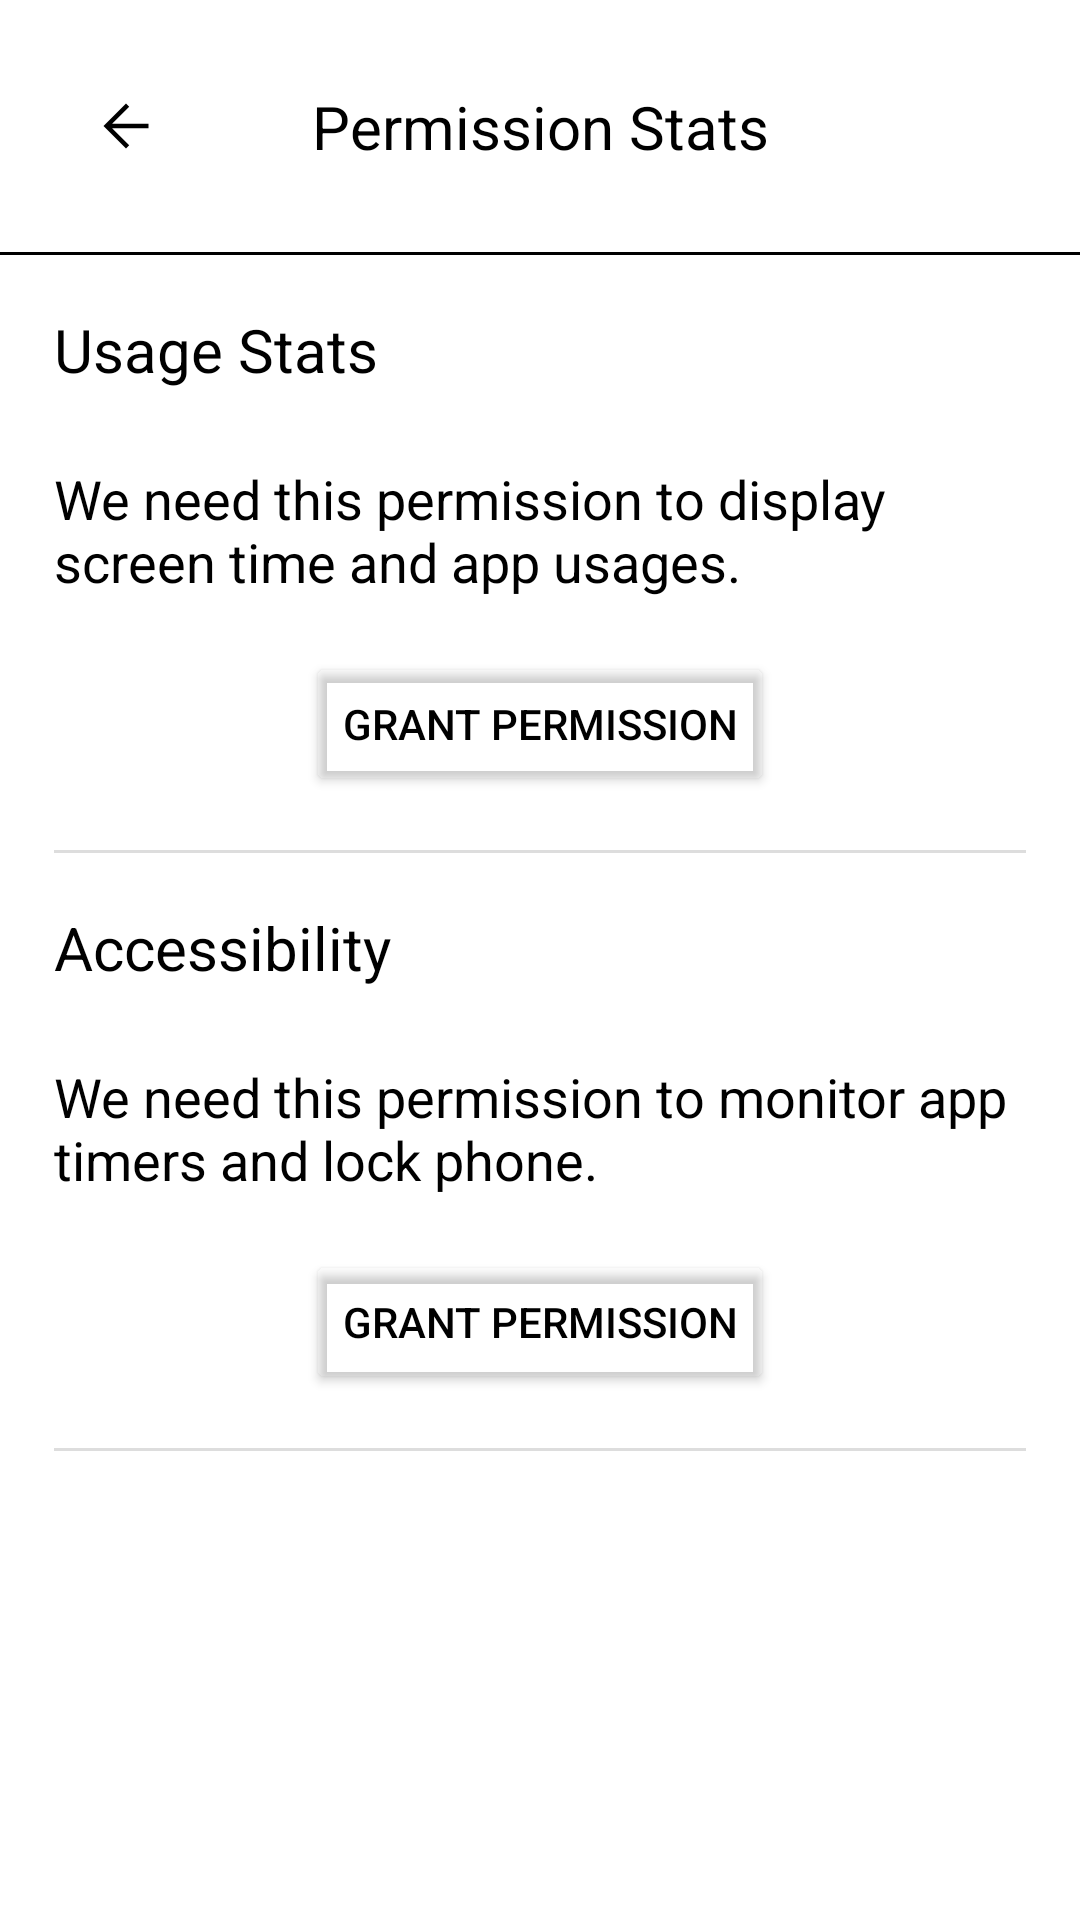

Icon click points for this 1080px x 1920px phone screenshot, format (x=x, y=y):
Back btn: (x=126, y=126)
